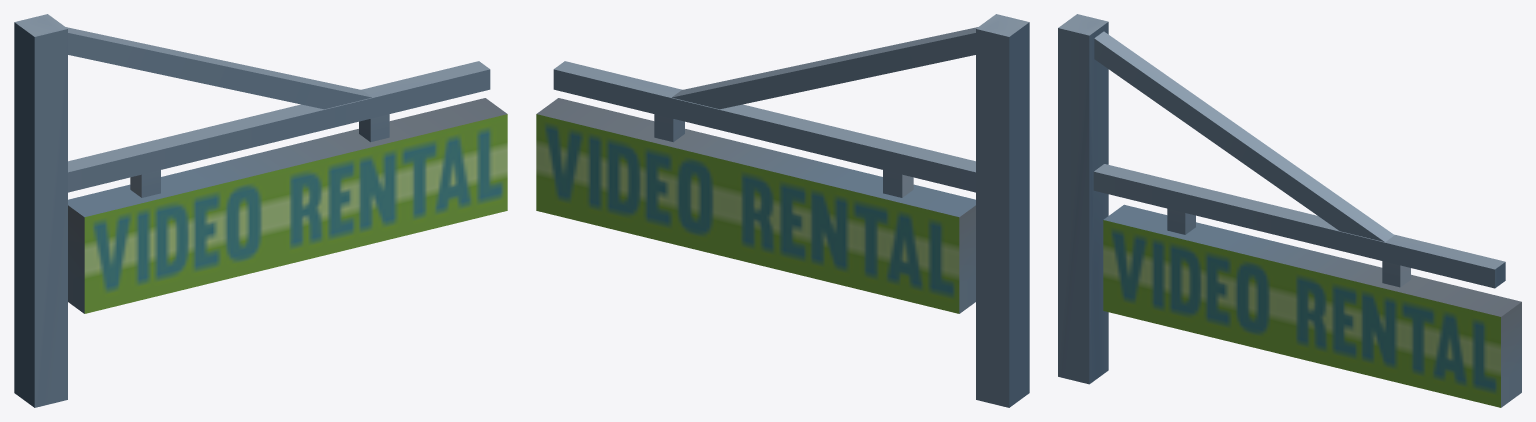
Rendered from SM_Sign_VideoRental_01.fbx.
The picture shows the model from 3 angles, left to right: view 1: azimuth 30°, elevation 25°; view 2: azimuth 150°, elevation 25°; view 3: azimuth 330°, elevation 25°; orthographic projection. The views are drawn at different scales.
Parts seen in each view (by area): view 1: SM_Sign_VideoRental_01; view 2: SM_Sign_VideoRental_01; view 3: SM_Sign_VideoRental_01.
Boxes of the visible parts, <box> form: SM_Sign_VideoRental_01: <box>14,14,507,407</box>; SM_Sign_VideoRental_01: <box>536,14,1029,407</box>; SM_Sign_VideoRental_01: <box>1058,14,1521,407</box>.
Bounding box in the file's own units: 2.63 × 1.97 × 0.2137.
